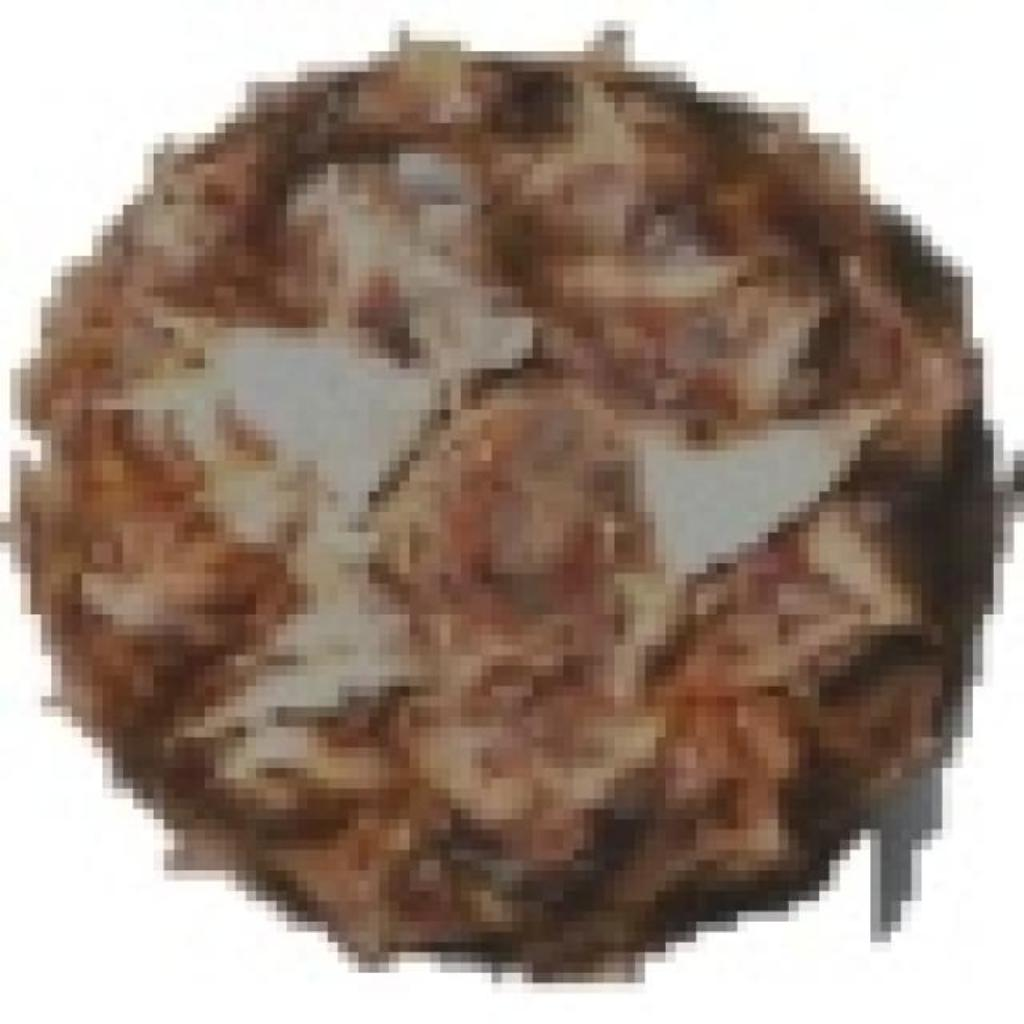pineapple: (10, 20, 973, 952)
